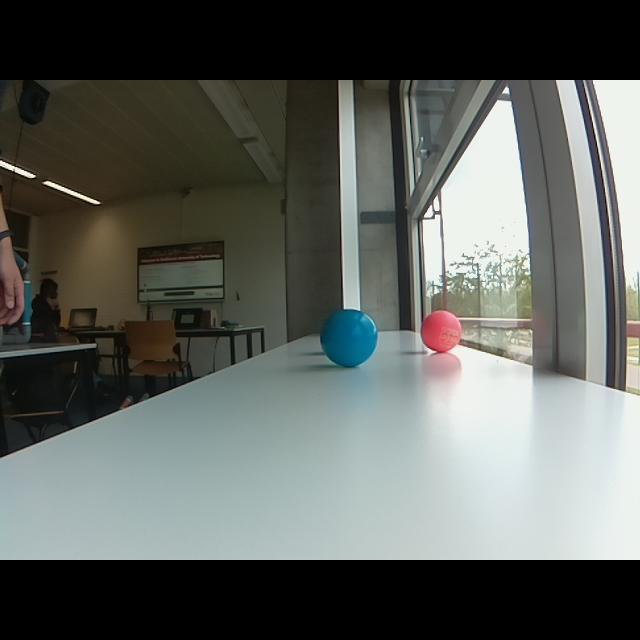ball: (320, 305, 380, 370), (420, 309, 465, 353)
